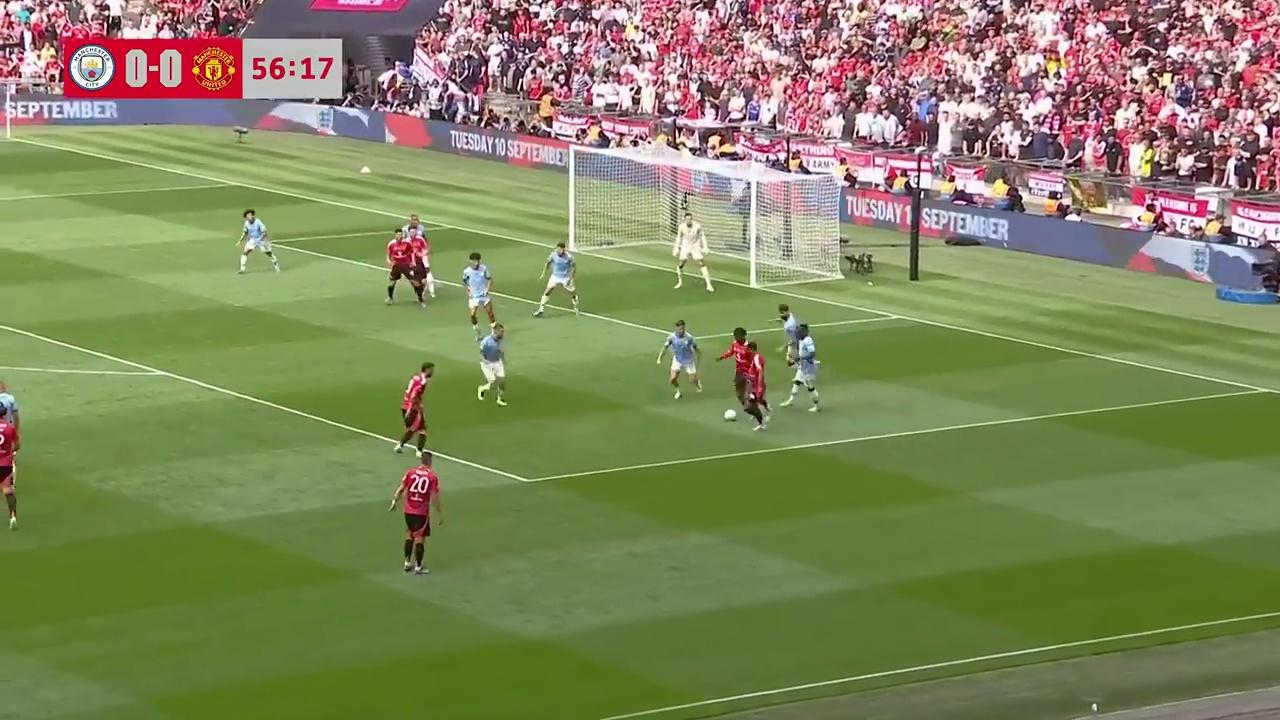ball: (722, 406, 737, 421)
player: (388, 448, 443, 576), (715, 327, 764, 428), (393, 363, 433, 456), (384, 227, 430, 306), (780, 325, 821, 412), (734, 337, 772, 430), (671, 210, 714, 291), (660, 319, 703, 400), (534, 241, 578, 317), (391, 213, 431, 290), (461, 252, 499, 330), (236, 208, 280, 274), (475, 321, 508, 407), (0, 413, 19, 530), (774, 305, 805, 365), (407, 230, 432, 301), (0, 381, 21, 452)
